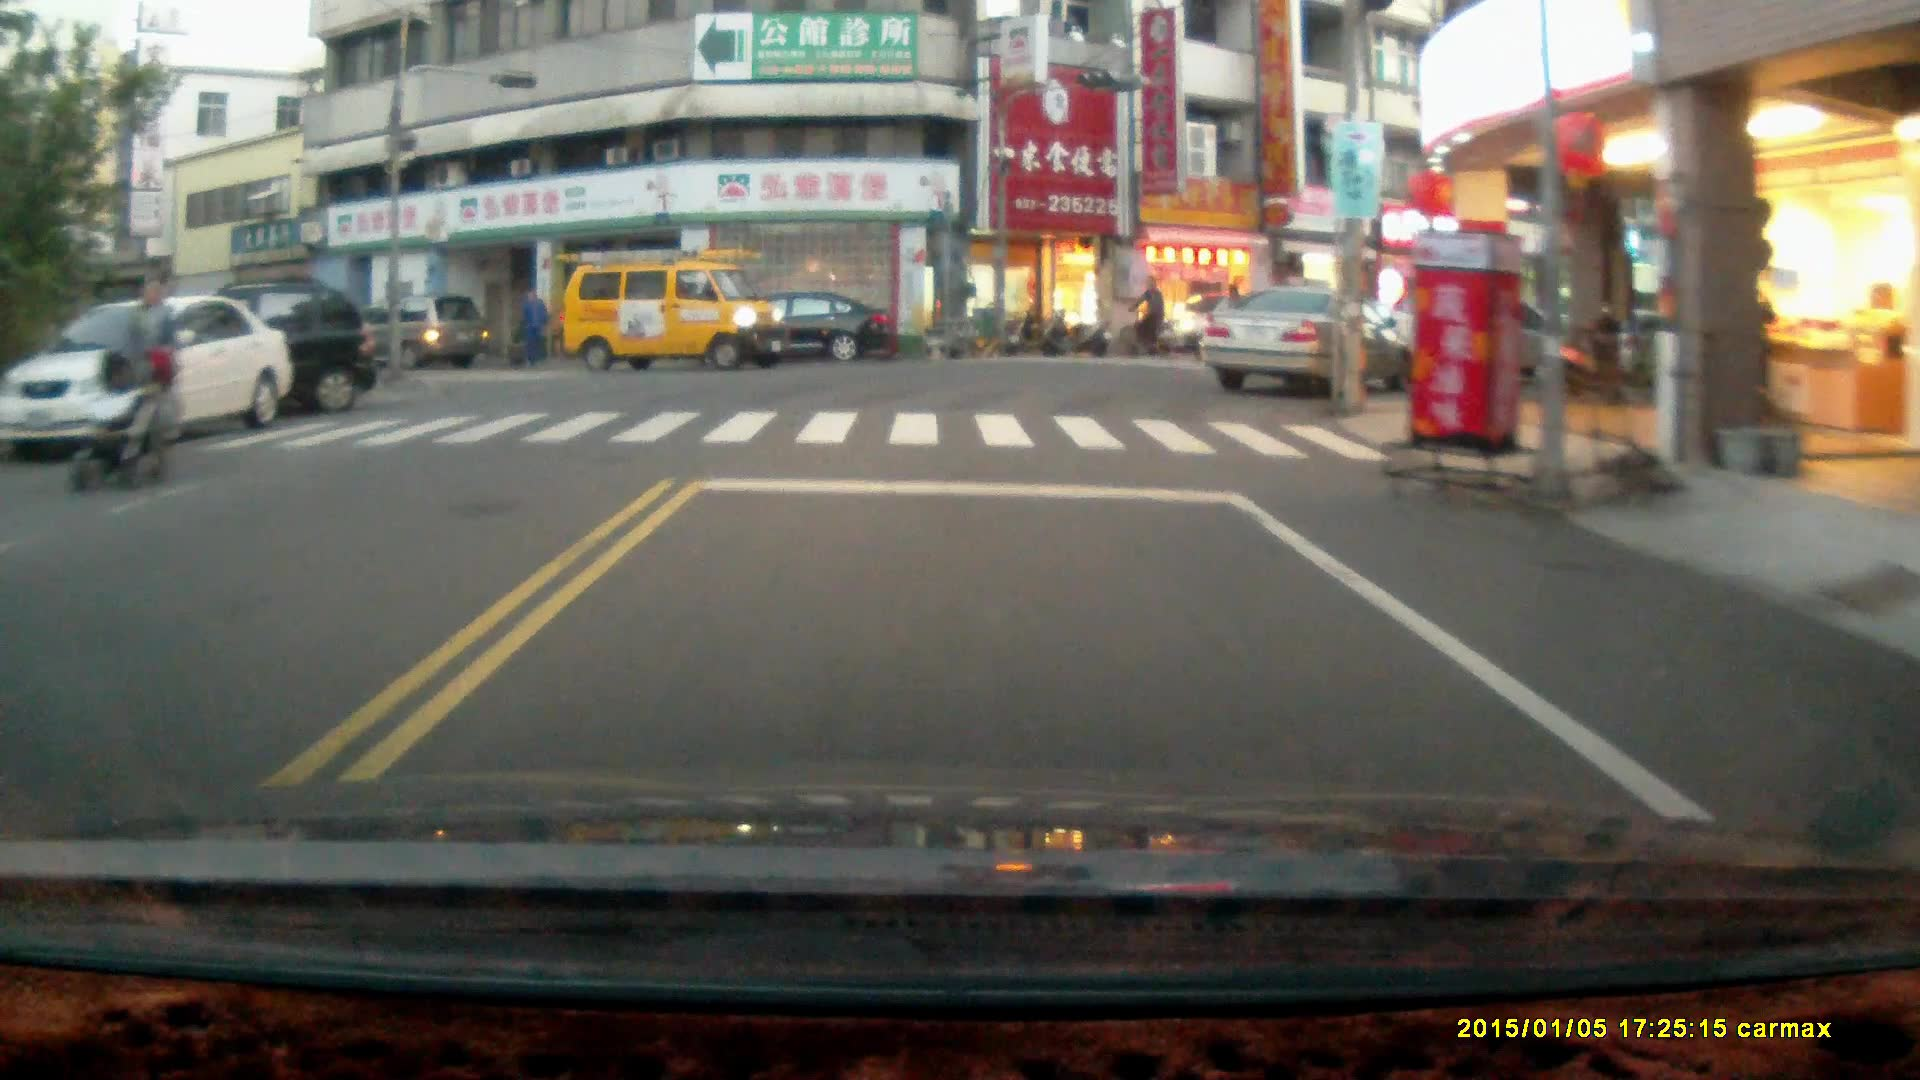pedestrian: (121, 281, 175, 464), (519, 287, 548, 367)
rider: (65, 340, 175, 495), (1113, 274, 1174, 360)
vehicle: (86, 276, 382, 416), (19, 295, 281, 452), (561, 244, 792, 371), (1200, 285, 1406, 398), (717, 295, 890, 370), (350, 294, 486, 372)
